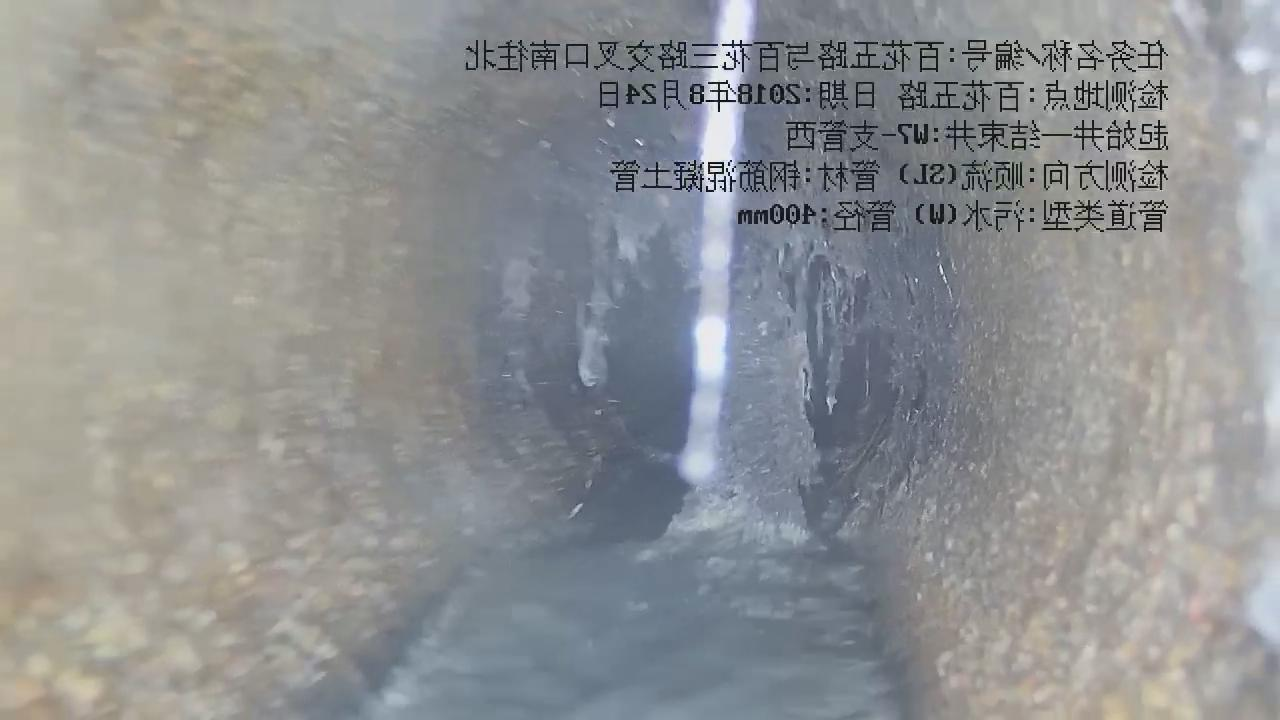SG: (505, 0, 925, 532)
